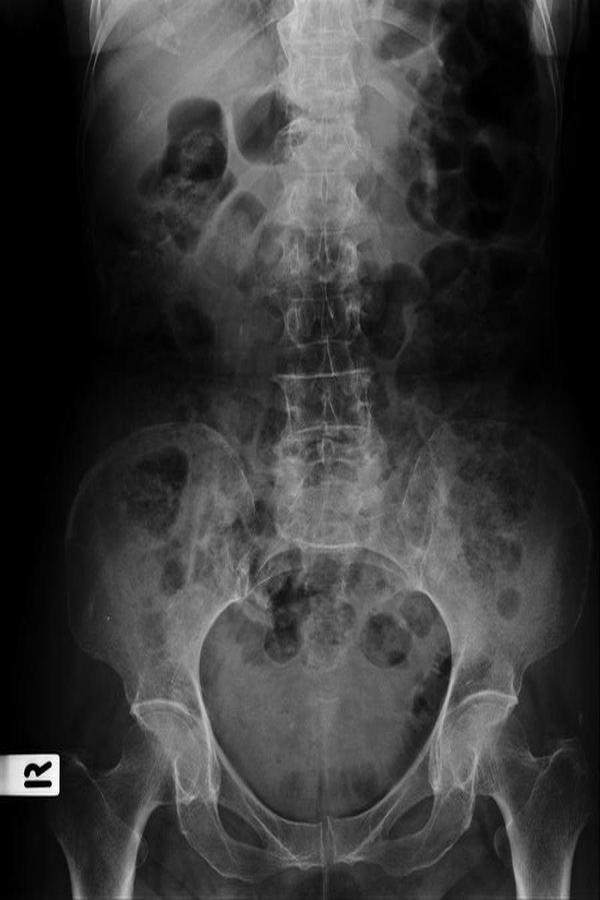lumbar scoliosis: (270, 4, 387, 526)
